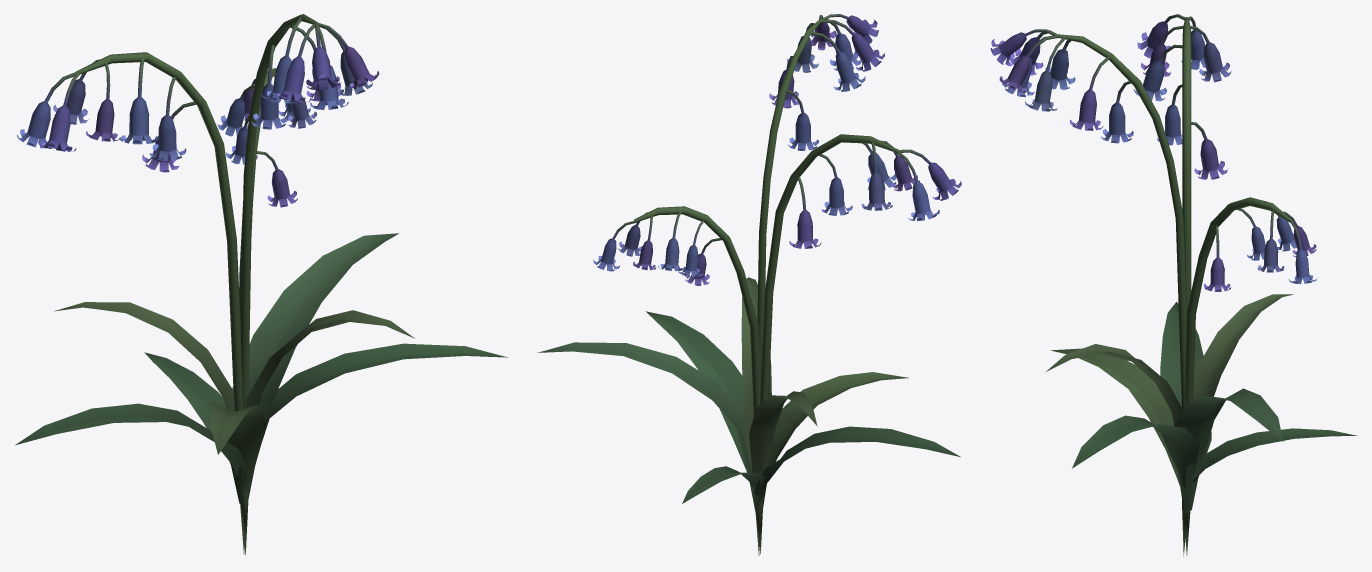
File: plants-flowers-bluebell_v4.glb
3 views of the same model, side by side, from view 1: azimuth 30°, elevation 25°; view 2: azimuth 150°, elevation 25°; view 3: azimuth 270°, elevation 25° (orthographic). The views are drawn at different scales.
Parts seen in each view (by area): view 1: Bluebell_v4; view 2: Bluebell_v4; view 3: Bluebell_v4.
Boxes of the visible parts, x1,y1,x2,y2 form: Bluebell_v4: (15,14,507,555); Bluebell_v4: (537,14,961,555); Bluebell_v4: (990,14,1357,556).
Bounding box in the file's own units: 0.2764 × 0.35 × 0.2215.
